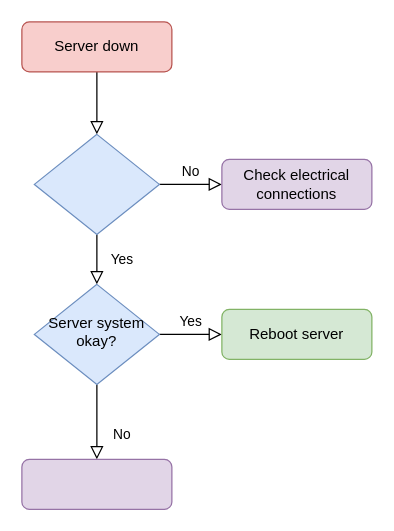
Image size: 394x531. Some labels were removed from this diagram. The shapes that lost their labels are listed below. From the top down, each one's centre as x and y in pixels, then its label:
(x=96, y=183): Server running?
(x=96, y=483): Check OS setting/ antivirus
